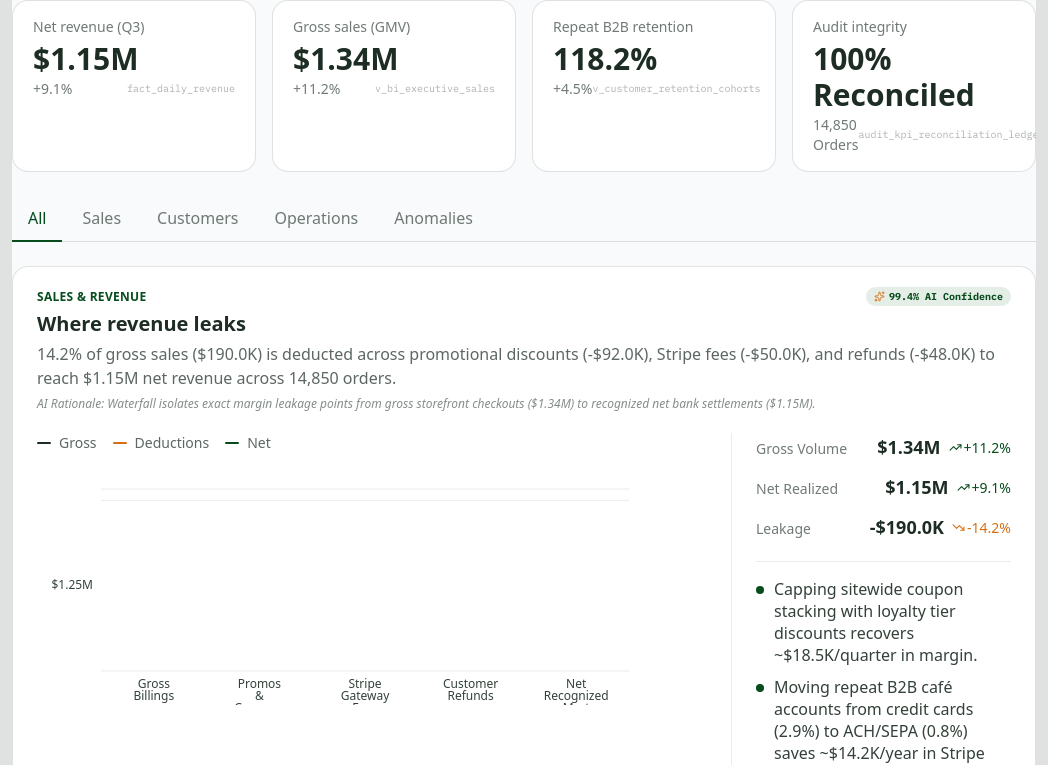
it: Insights dashboard › filters insights by category tab
This screenshot has width=1048, height=765.
Step 1. Click the button "Customers" → [198, 219], box 141,196 -> 254,242
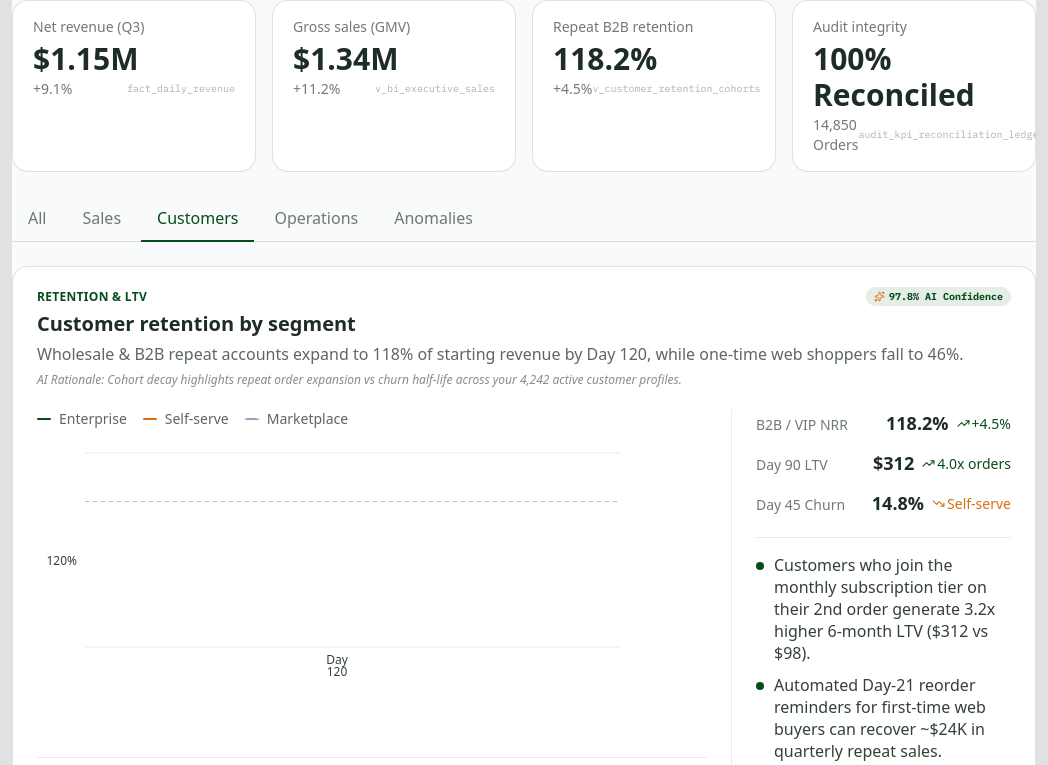
Check: the heading "Customer retention by segment" is shown, box 37,310 -> 356,337
Check: the heading "Where revenue leaks" is gone
Step 2. Click the button "All" → [37, 219], box 12,196 -> 62,242
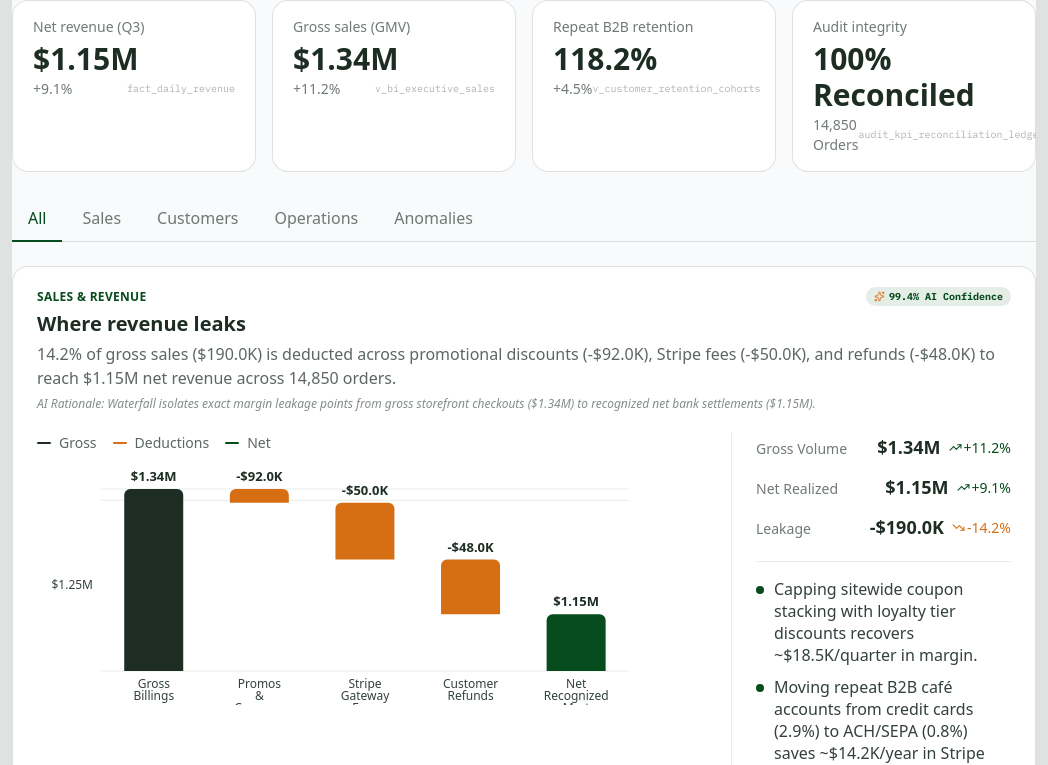
Check: the heading "Where revenue leaks" is shown, box 37,310 -> 246,337
